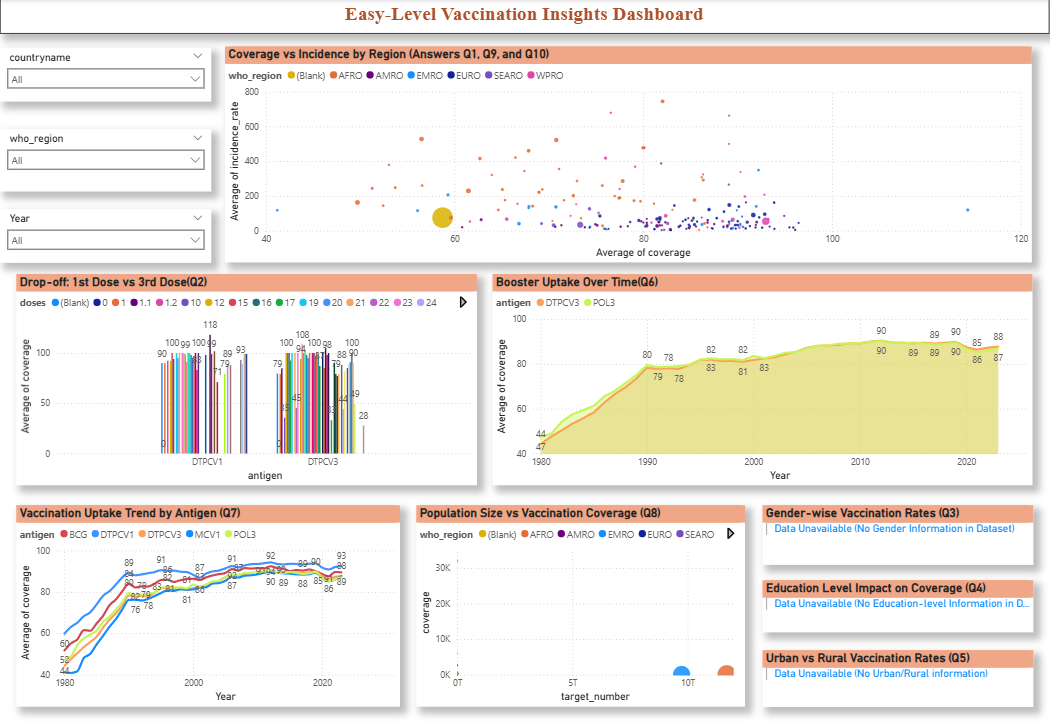

What the dashboard file says about the page in this screenshot:
{"tool":"powerbi","page":{"name":"Page 1","canvas":[1450,1000],"ordinal":0},"visuals":[{"type":"textbox","box":[0,0,1450,48.3],"z":0},{"type":"slicer","fields":{"Values":["DateTable.Year"]},"box":[0,290,292,74],"z":1000},{"type":"slicer","fields":{"Values":["DimCountry.who_region"]},"box":[0,180,292,86],"z":2000},{"type":"slicer","fields":{"Values":["DimCountry.countryname"]},"box":[0,68,292,74],"z":3000},{"type":"scatterChart","title":"Coverage vs Incidence by Region (Answers Q1, Q9, and Q10)","fields":{"X":["Avg(vaccination coverage_data.coverage)"],"Y":["Avg(vaccination incidence_rate_data.incidence_rate)"],"Series":["DimCountry.who_region"],"Size":["Sum(vaccination reported_cases_data.cases)"],"Category":["DimCountry.countryname"]},"box":[311.7,65,1115,298.3],"z":4000},{"type":"clusteredColumnChart","title":"Drop-off: 1st Dose vs 3rd Dose(Q2)","fields":{"Category":["vaccination coverage_data.antigen"],"Y":["Avg(vaccination coverage_data.coverage)"],"Series":["vaccination coverage_data.doses"]},"box":[21.7,380,636.7,291.7],"z":5000},{"type":"lineChart","title":"Booster Uptake Over Time(Q6)","fields":{"Category":["DateTable.Year"],"Y":["Avg(vaccination coverage_data.coverage)"],"Series":["vaccination coverage_data.antigen"]},"box":[680,380,746.7,291.7],"z":6000},{"type":"multiRowCard","title":"Gender-wise Vaccination Rates (Q3)","fields":{"Values":["DateTable.GenderCoverageNote"]},"box":[1054,700,374,82],"z":7000},{"type":"multiRowCard","title":"Education Level Impact on Coverage (Q4)","fields":{"Values":["DateTable.EducationCoverageNote"]},"box":[1054,804,374,72],"z":8000},{"type":"multiRowCard","title":"Urban vs Rural Vaccination Rates (Q5)","fields":{"Values":["DateTable.UrbanRuralCoverageNote"]},"box":[1054,900,374,78],"z":9000},{"type":"lineChart","title":"Vaccination Uptake Trend by Antigen (Q7)","fields":{"Category":["DateTable.Year"],"Y":["Avg(vaccination coverage_data.coverage)"],"Series":["vaccination coverage_data.antigen"]},"box":[22,700,530,278],"z":10000},{"type":"scatterChart","title":"Population Size vs Vaccination Coverage (Q8)","fields":{"X":["vaccination coverage_data.target_number"],"Series":["DimCountry.who_region"],"Size":["Sum(vaccination coverage_data.target_number)"],"Y":["vaccination coverage_data.coverage"]},"box":[576,700,454,278],"z":11000}]}

Visuals, with their boxes in screenshot pixels (x1, y1, x2, y2), scaled from the page's 1450x1000 canvas onto the 1050x722 screenshot:
textbox: Rect(0, 0, 1049, 35)
slicer - DateTable.Year: Rect(0, 209, 211, 263)
slicer - DimCountry.who_region: Rect(0, 130, 211, 192)
slicer - DimCountry.countryname: Rect(0, 49, 211, 103)
"Coverage vs Incidence by Region (Answers Q1, Q9, and Q10)" scatterChart: Rect(226, 47, 1033, 262)
"Drop-off: 1st Dose vs 3rd Dose(Q2)" clusteredColumnChart: Rect(16, 274, 477, 485)
"Booster Uptake Over Time(Q6)" lineChart: Rect(492, 274, 1033, 485)
"Gender-wise Vaccination Rates (Q3)" multiRowCard: Rect(763, 505, 1034, 565)
"Education Level Impact on Coverage (Q4)" multiRowCard: Rect(763, 580, 1034, 632)
"Urban vs Rural Vaccination Rates (Q5)" multiRowCard: Rect(763, 650, 1034, 706)
"Vaccination Uptake Trend by Antigen (Q7)" lineChart: Rect(16, 505, 400, 706)
"Population Size vs Vaccination Coverage (Q8)" scatterChart: Rect(417, 505, 746, 706)
